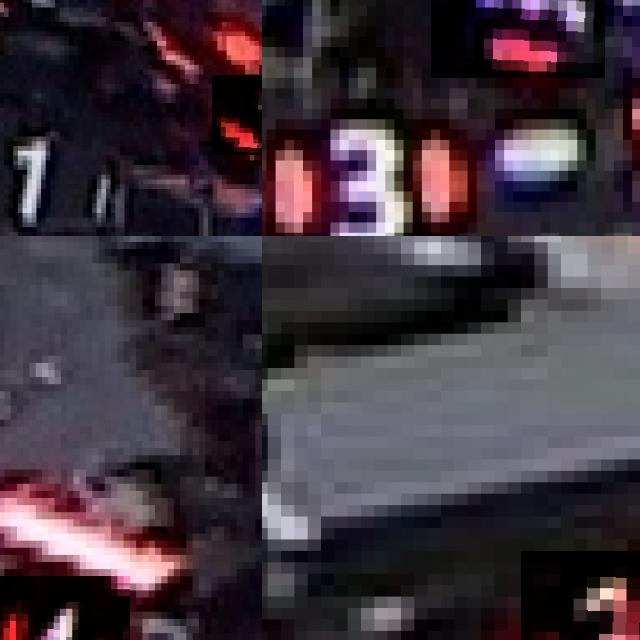R1: (212, 74, 262, 155)
R3: (266, 88, 467, 236), (431, 0, 604, 78), (520, 551, 640, 640)
R4: (0, 576, 129, 640)
